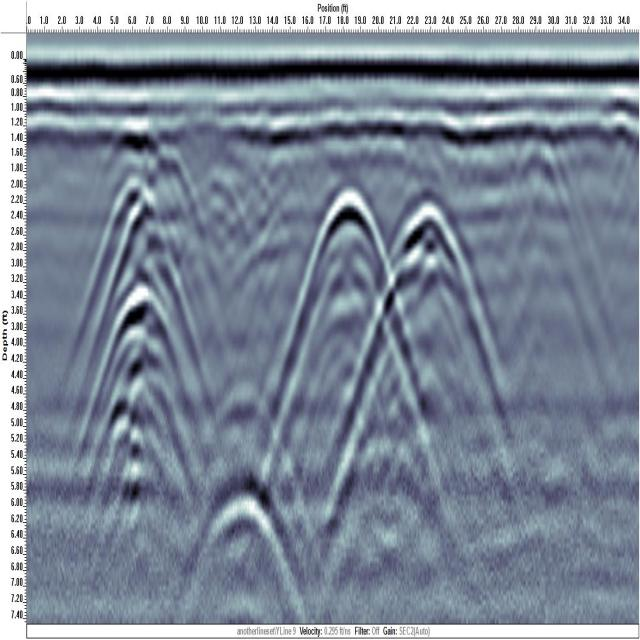hyperbola: (378, 188, 490, 400), (283, 170, 400, 372), (101, 261, 177, 474), (195, 464, 298, 614)
